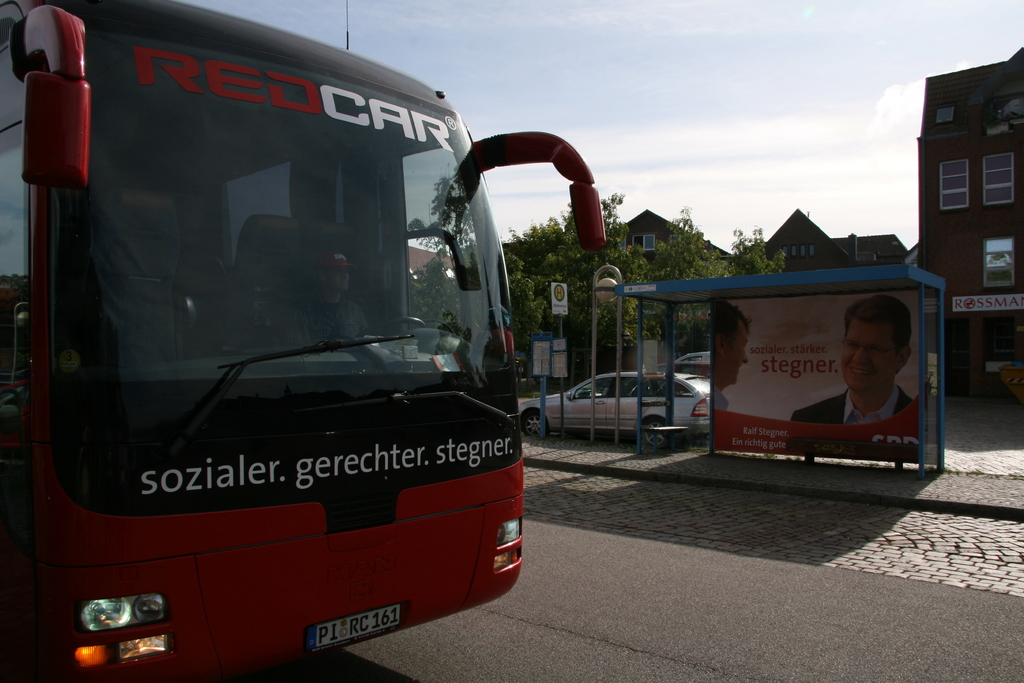Bus: (2, 1, 613, 682)
